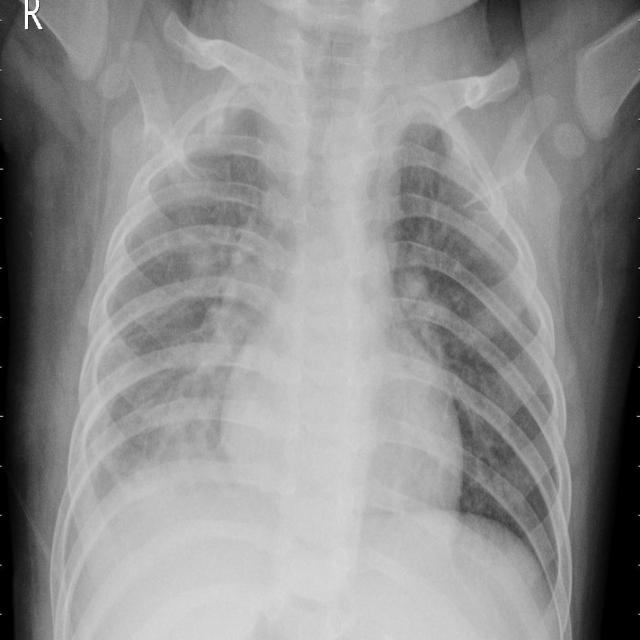low-pneumonia: (199, 184, 295, 390), (96, 361, 220, 482), (401, 246, 461, 355)
